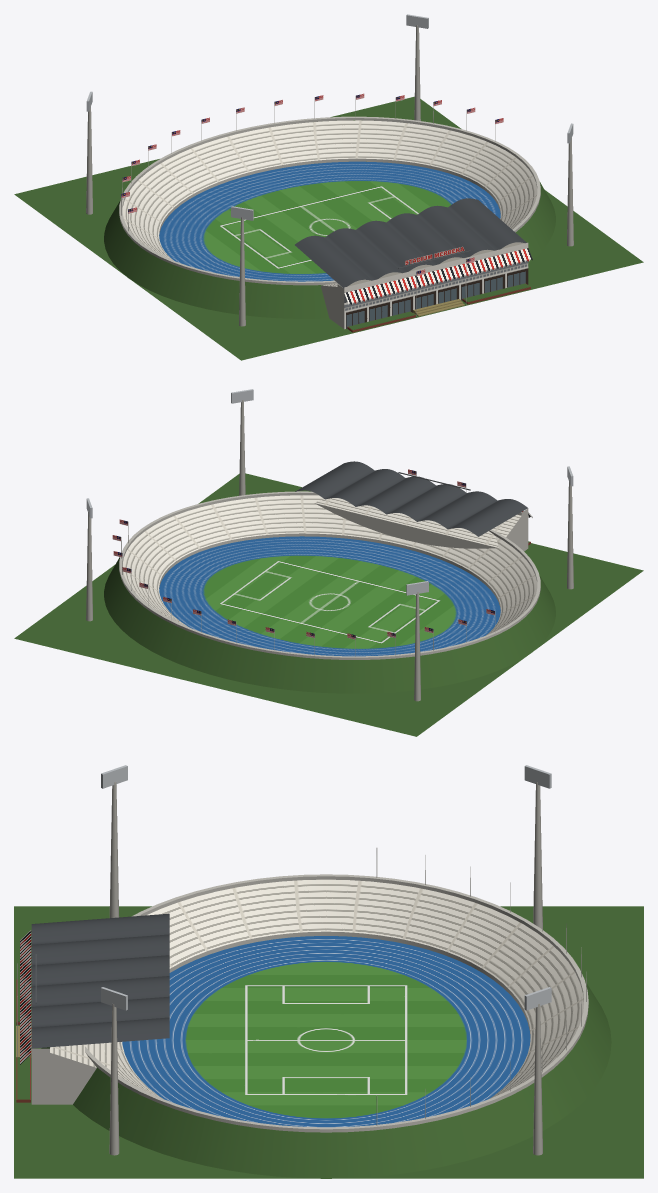
Rendered from stadium-merdeka.glb.
The picture shows the model from 3 angles, top to bottom: view 1: azimuth 30°, elevation 25°; view 2: azimuth 150°, elevation 25°; view 3: azimuth 270°, elevation 25°; orthographic projection. The views are drawn at different scales.
Parts seen in each view (by area): view 1: StadiumMerdeka; view 2: StadiumMerdeka; view 3: StadiumMerdeka.
Boxes of the visible parts, x1,y1,x2,y2 form: StadiumMerdeka: (14,14,643,360); StadiumMerdeka: (14,389,643,736); StadiumMerdeka: (14,765,643,1178).
Bounding box in the file's own units: 140 × 38.8 × 137.
9 materials, 6 textured.
